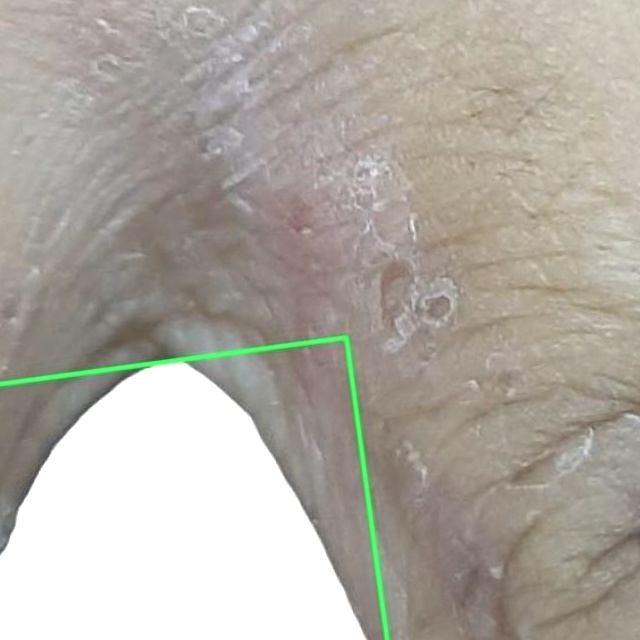Scabies: (0, 338, 388, 639)
